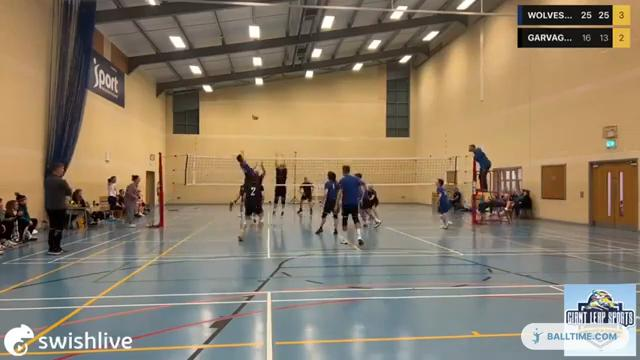attacco: (225, 147, 259, 214)
muro: (270, 151, 290, 220)
